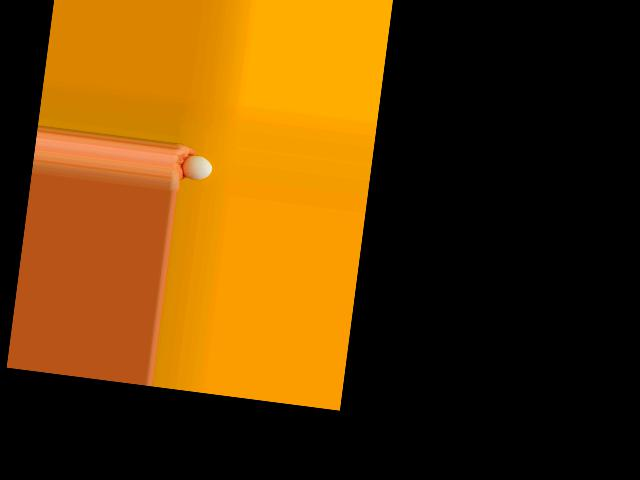egg: (180, 153, 213, 180)
